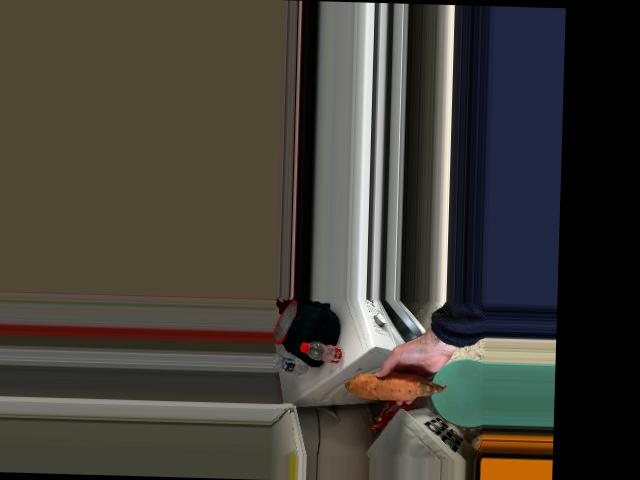sweet_potato: (358, 373, 433, 397)
